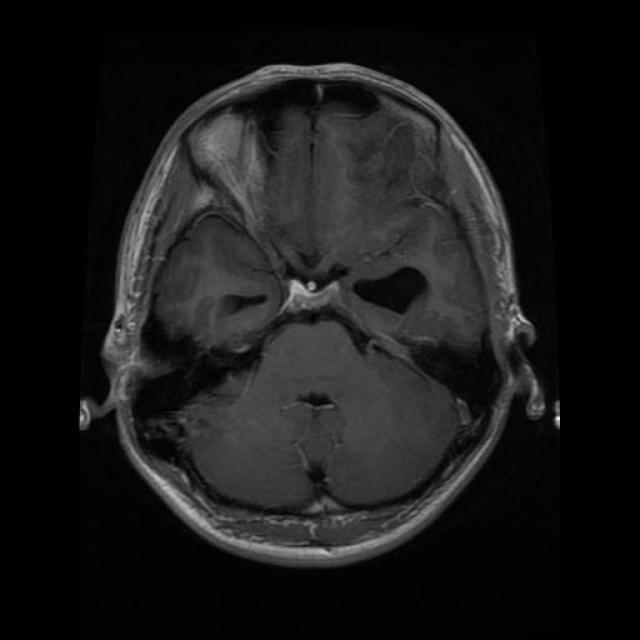glioma: (256, 220, 342, 341)
